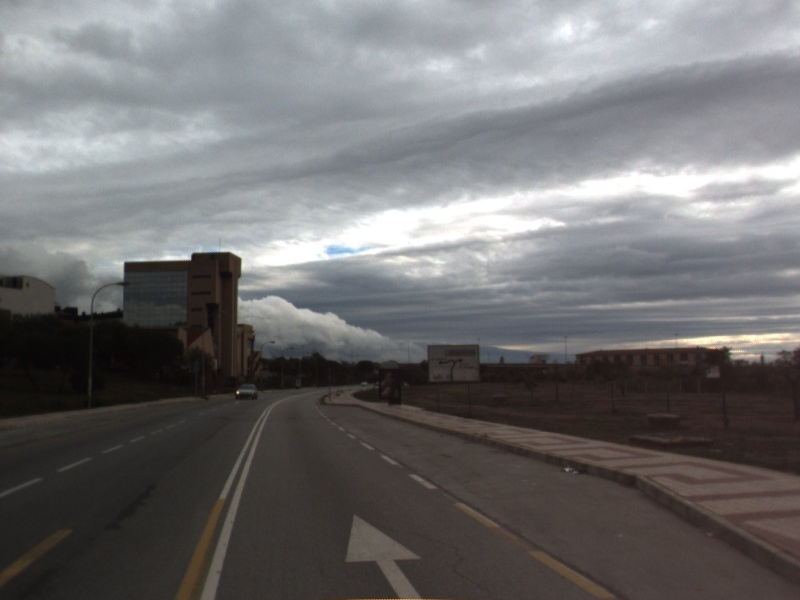STRAIGHT: (342, 512, 427, 600)
